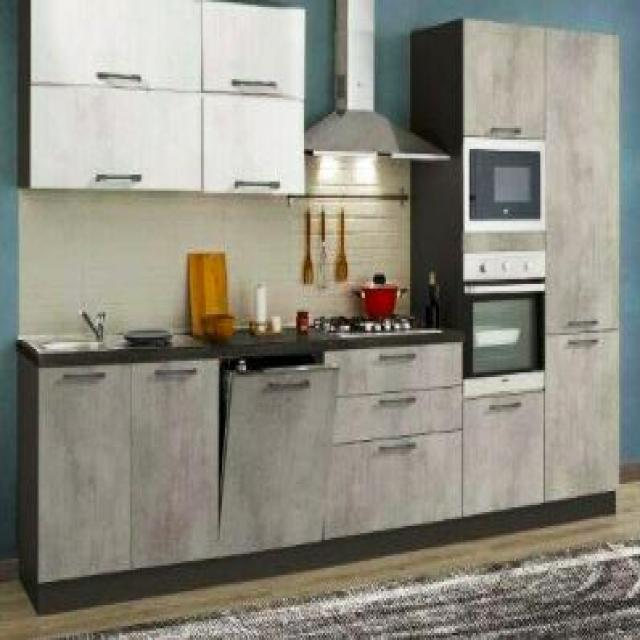dishwasher: (219, 349, 336, 552)
